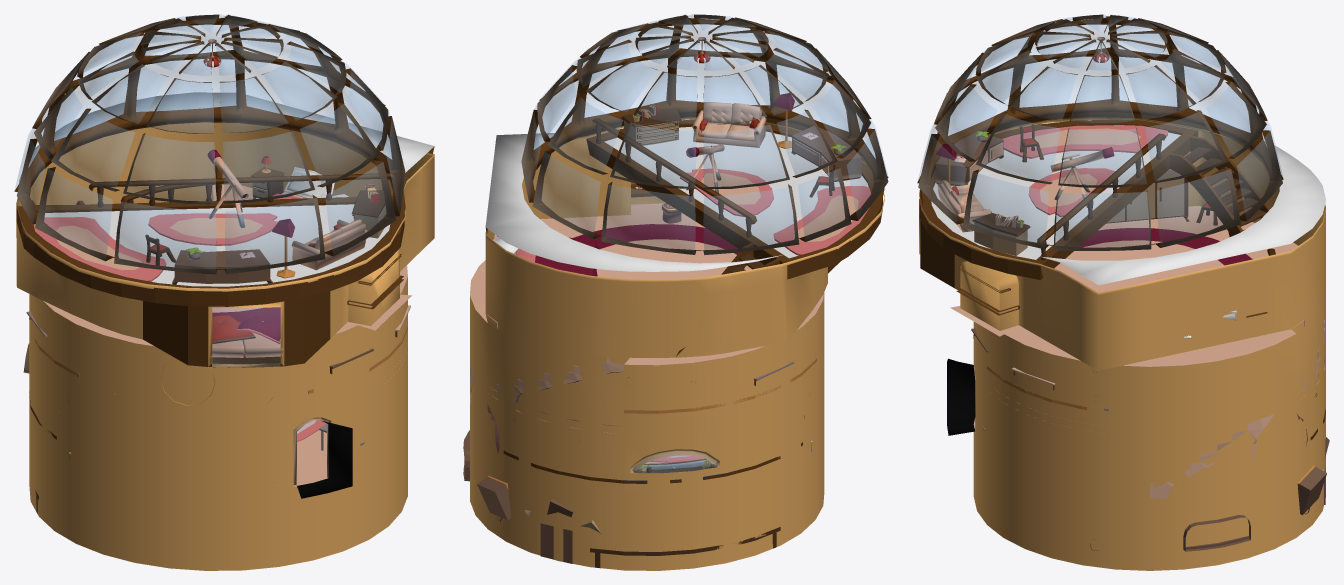
File: Torre_-_Unity_-_Maximo_interior_Animado.fbx
3 renders of one model, left to right at view 1: azimuth 30°, elevation 25°; view 2: azimuth 150°, elevation 25°; view 3: azimuth 270°, elevation 25°, orthographic. The views are drawn at different scales.
Parts seen in each view (by area): view 1: Parede, Chão, Estante, Carpete 2, Carpete 1, Almofada.001, Armário baixo, Corrimão, Sofá, Armário Pequeno, Telescópio, Almofada da cama (+4 smaller); view 2: Parede, Chão, Carpete quarto, Carpete 2, Sofá, Carpete 1, Caixas, Armário baixo, Corrimão, Armário Pequeno, Balcão, Mesa Cave (+3 smaller); view 3: Parede, Chão, Carpete quarto, Carpete 2, Escadas de madeira, Cube, Carpete 1, Armário baixo, Corrimão, Degraus, Armário Pequeno, Estante (+4 smaller).
Part boxes in pixels (x1,y1,x2,y2): Parede: (14,14,434,570); Chão: (16,184,411,486); Estante: (143,291,330,367); Carpete 2: (33,217,166,281); Carpete 1: (148,213,277,245); Almofada.001: (210,315,283,357); Armário baixo: (172,249,272,284); Corrimão: (89,173,394,207); Sofá: (291,219,367,270); Armário Pequeno: (351,190,386,238); Telescópio: (207,149,248,227); Almofada da cama: (284,167,334,198); Parede: (470,14,888,570); Chão: (470,119,882,463); Carpete quarto: (573,224,751,279); Carpete 2: (773,185,871,255); Sofá: (692,102,766,147); Carpete 1: (680,168,773,216); Caixas: (477,476,601,563); Armário baixo: (791,125,861,181); Corrimão: (592,118,756,237); Armário Pequeno: (621,107,681,145); Balcão: (503,442,802,483); Mesa Cave: (590,527,780,567); Parede: (917,14,1325,570); Chão: (919,119,1325,570); Carpete quarto: (1054,228,1252,292); Carpete 2: (1002,125,1167,158); Escadas de madeira: (1170,135,1269,236); Cube: (1106,169,1189,223); Carpete 1: (1028,168,1114,217); Armário baixo: (935,131,1003,185); Corrimão: (1037,133,1165,260); Degraus: (1185,147,1266,230); Armário Pequeno: (972,213,1030,255); Estante: (920,220,954,287).
Bounding box in the file's own units: 1174 × 1374 × 1150.
